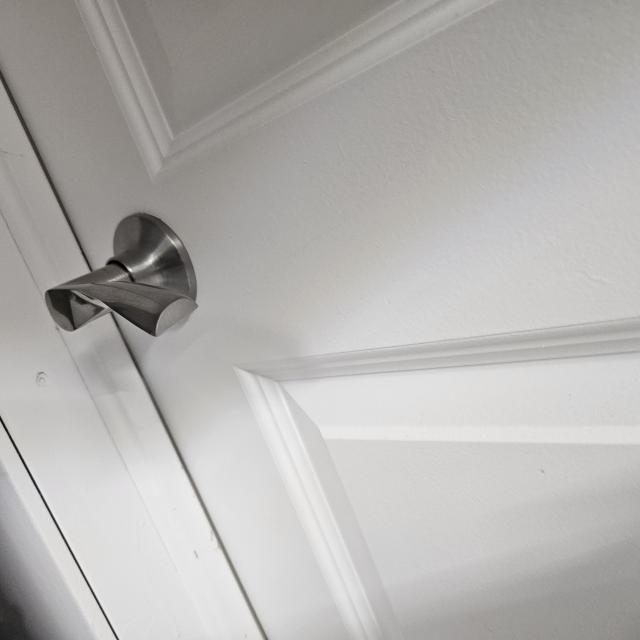door-handle: (45, 214, 198, 336)
